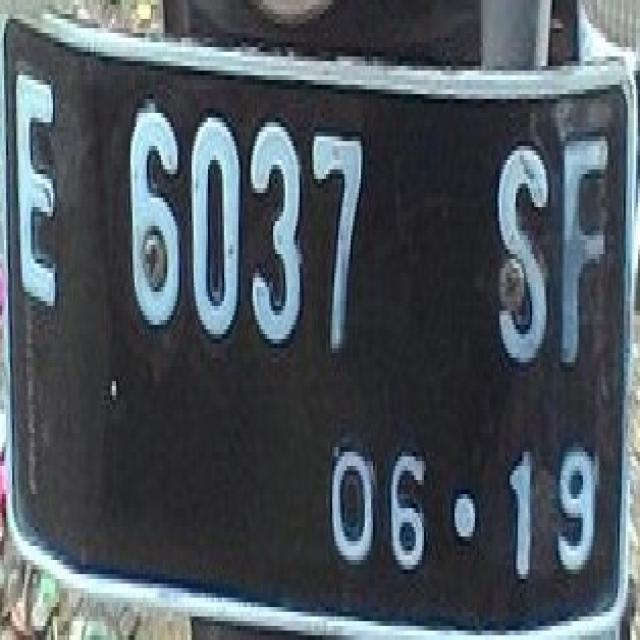plate: (0, 0, 630, 631)
